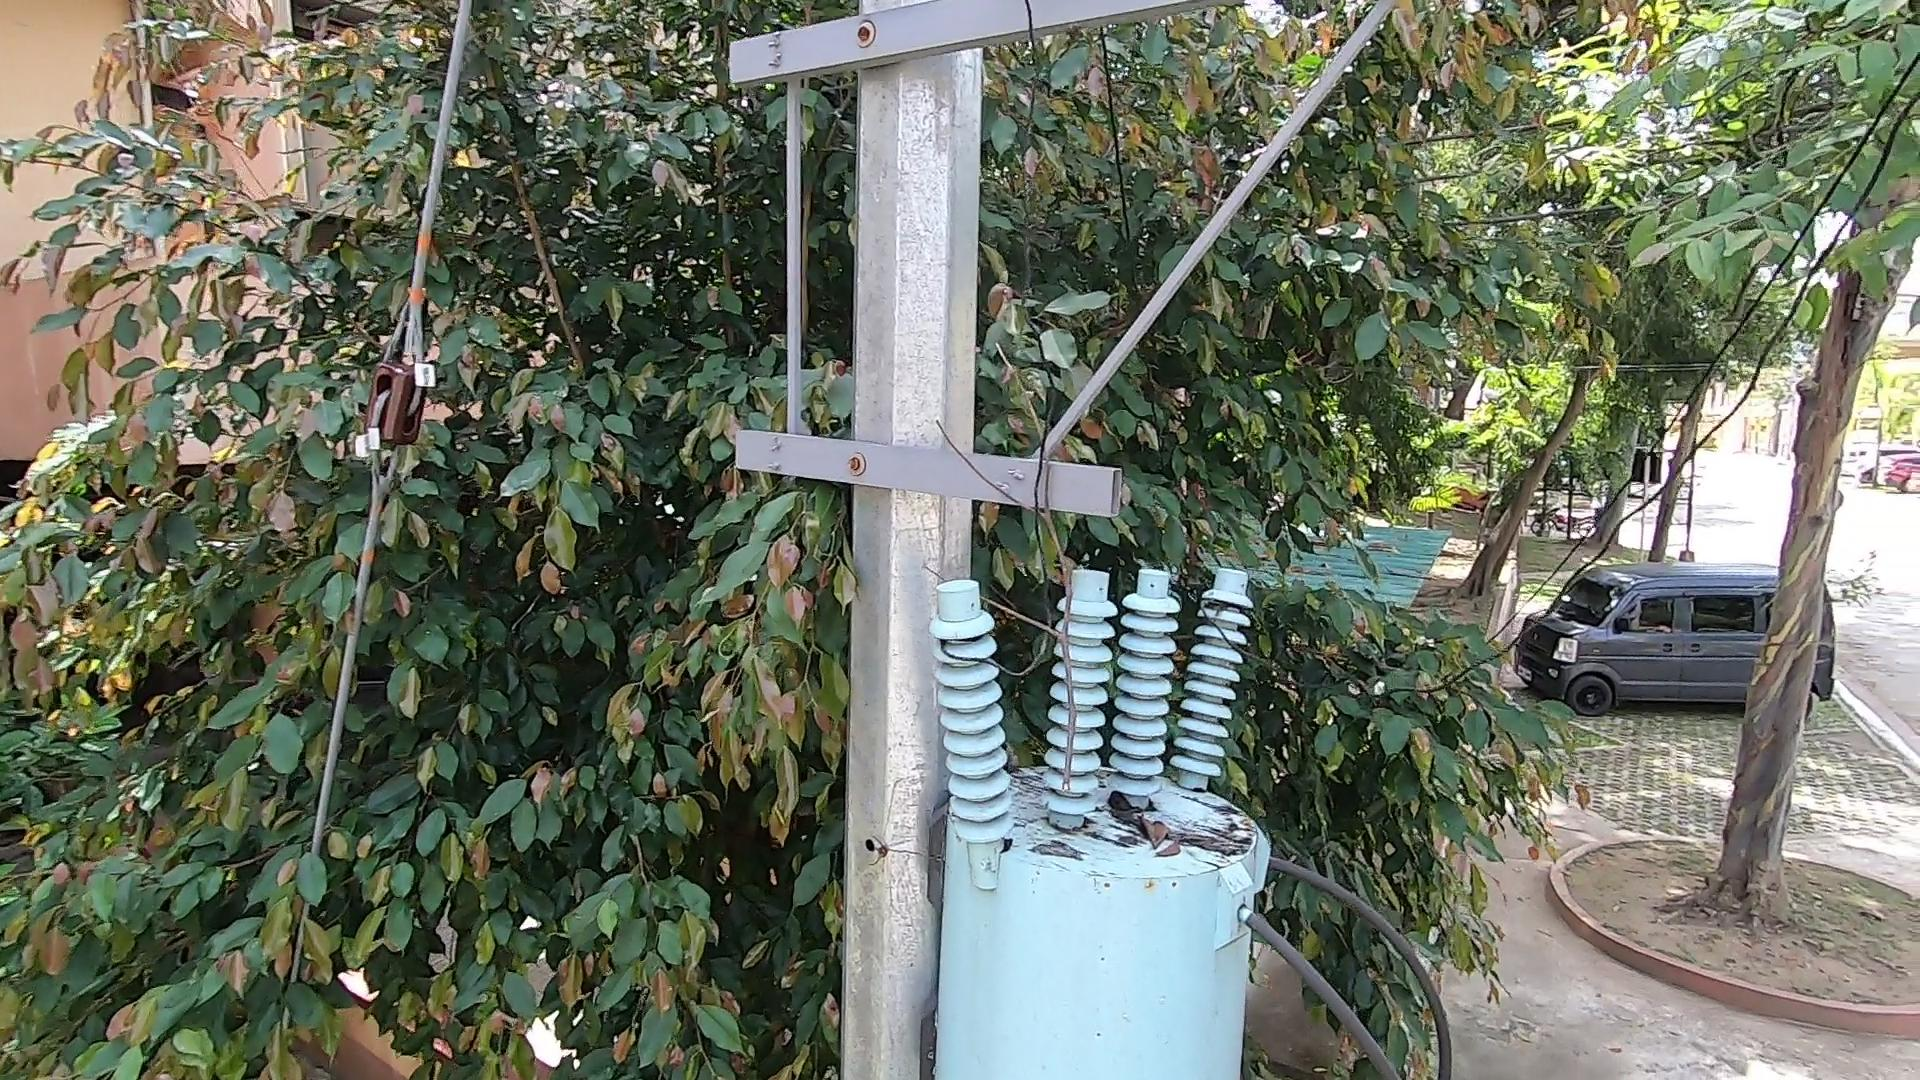leaf: (1104, 781, 1197, 872)
tree branch: (927, 293, 1102, 798)
